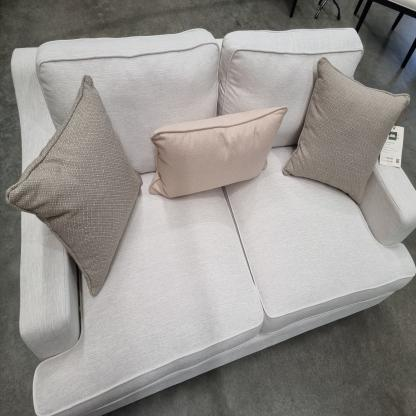Sofa: (4, 21, 416, 416)
